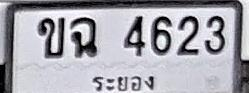2: (177, 15, 199, 55)
3: (204, 15, 225, 54)
4: (124, 15, 144, 56)
6: (152, 15, 171, 55)
A02: (37, 17, 65, 58)
A09: (70, 16, 98, 58)
RYG: (90, 70, 155, 92)
